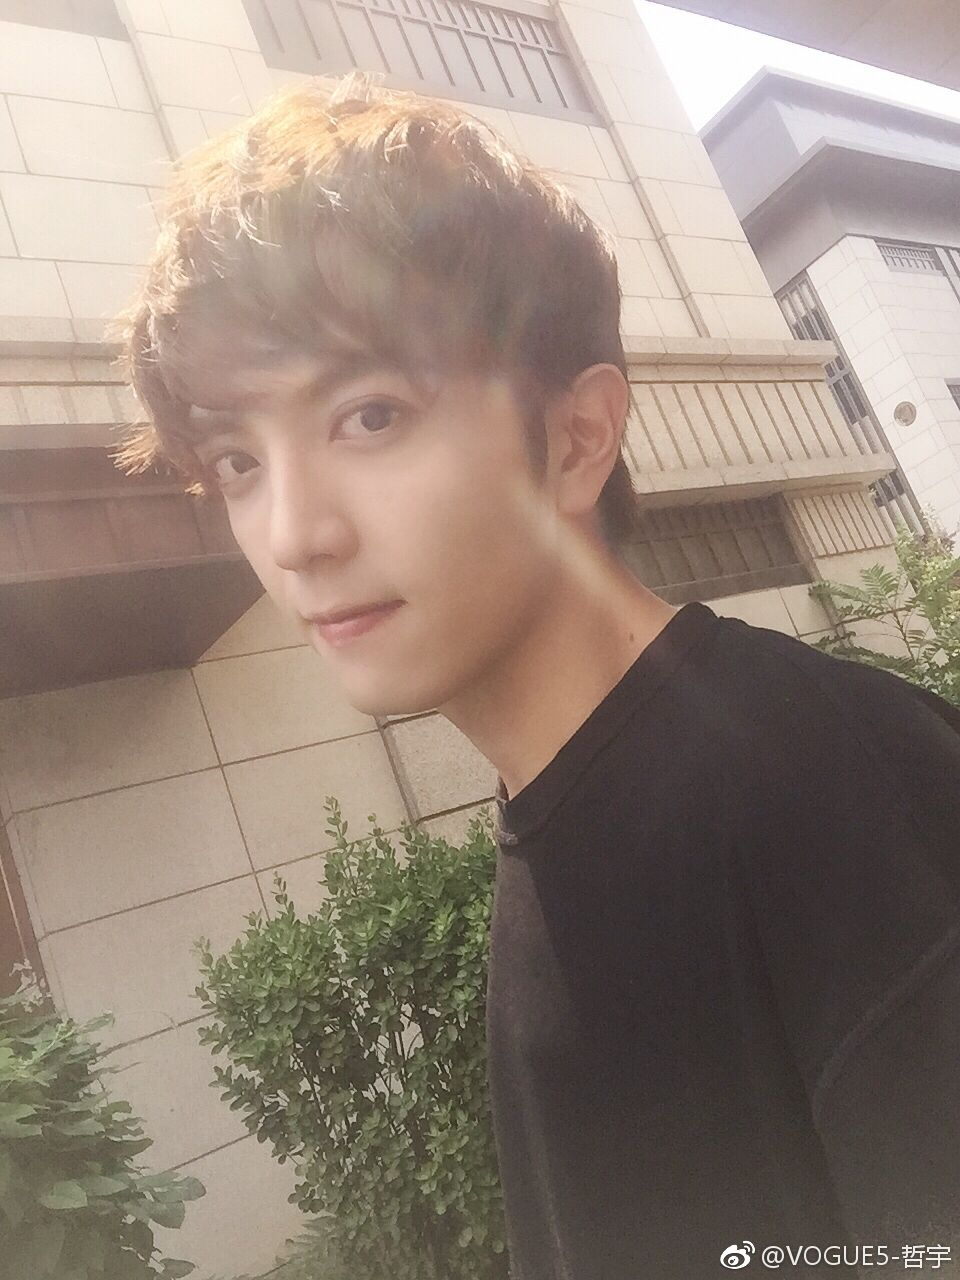person: (162, 91, 943, 1218)
